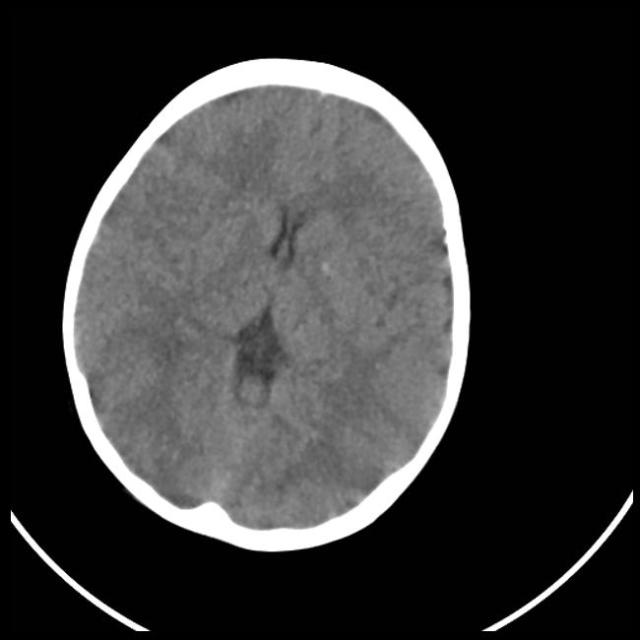lesion: (62, 65, 472, 544)
